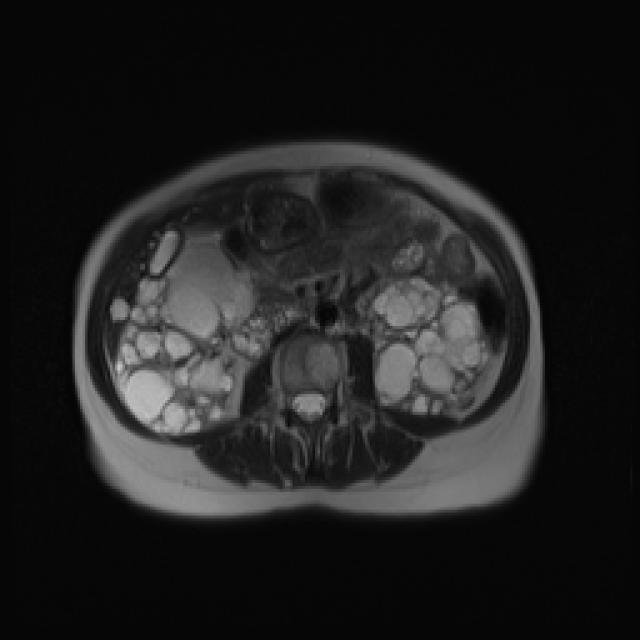sag: (117, 230, 257, 436)
sol: (368, 277, 491, 415)
